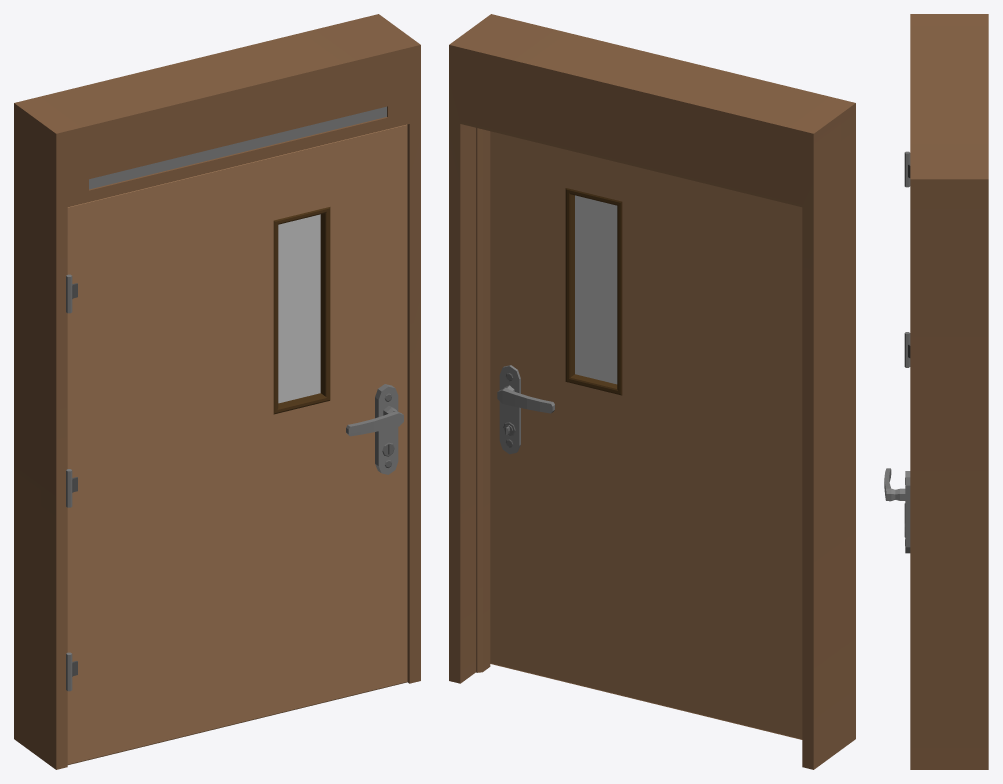
Rendered from M_SingleDoor01_2.fbx.
3 views of the same model, side by side, from view 1: azimuth 30°, elevation 25°; view 2: azimuth 150°, elevation 25°; view 3: azimuth 270°, elevation 25° (orthographic). The views are drawn at different scales.
Visible parts, largest first — view 1: M_SingleDoor01_2, M_SingleDoorHandle01; view 2: M_SingleDoor01_2, M_SingleDoorHandle01; view 3: M_SingleDoor01_2, M_SingleDoorHandle01.
Part boxes in pixels (left/top/right/bottom): M_SingleDoor01_2: left=14, top=14, right=420, bottom=769; M_SingleDoorHandle01: left=346, top=406, right=403, bottom=436; M_SingleDoor01_2: left=449, top=14, right=855, bottom=769; M_SingleDoorHandle01: left=497, top=385, right=554, bottom=413; M_SingleDoor01_2: left=904, top=14, right=988, bottom=769; M_SingleDoorHandle01: left=884, top=468, right=905, bottom=501.
Size of what is drawn, in the model's own units: 150 by 39.93 by 250.
